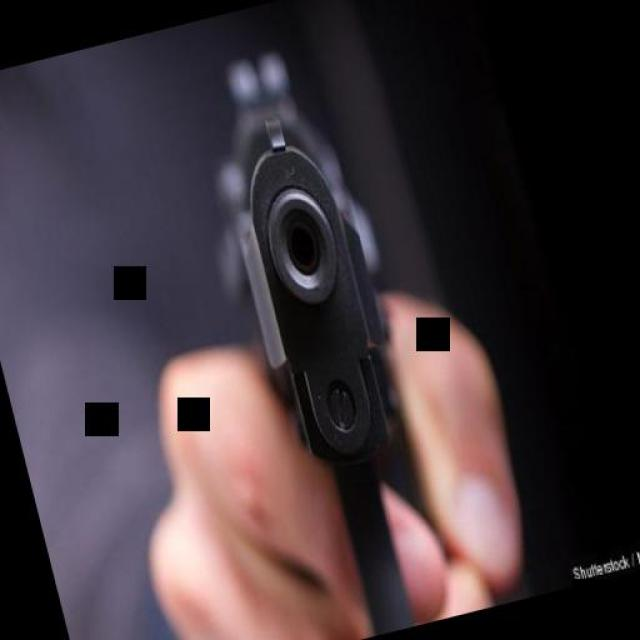gun: (176, 32, 472, 640)
